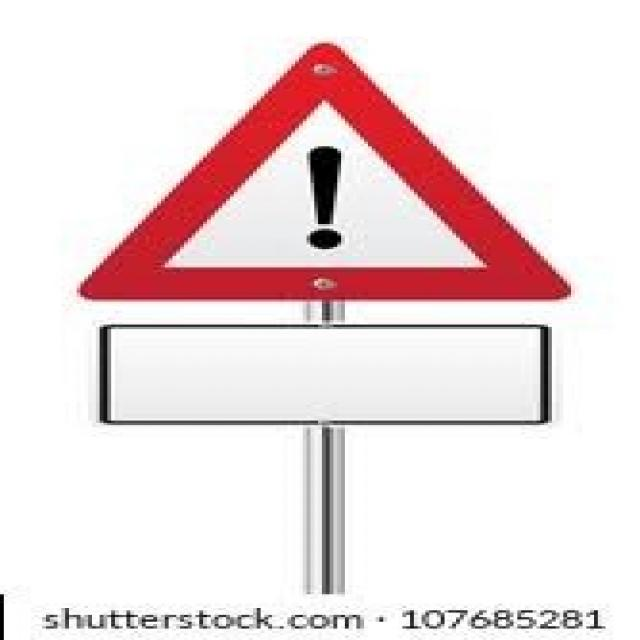warning: (70, 37, 570, 315)
